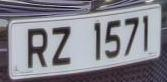1: (88, 16, 106, 67), (139, 12, 152, 56)
5: (102, 14, 124, 66)
7: (122, 13, 142, 59)
R: (24, 23, 52, 74)
Z: (49, 22, 76, 70)
